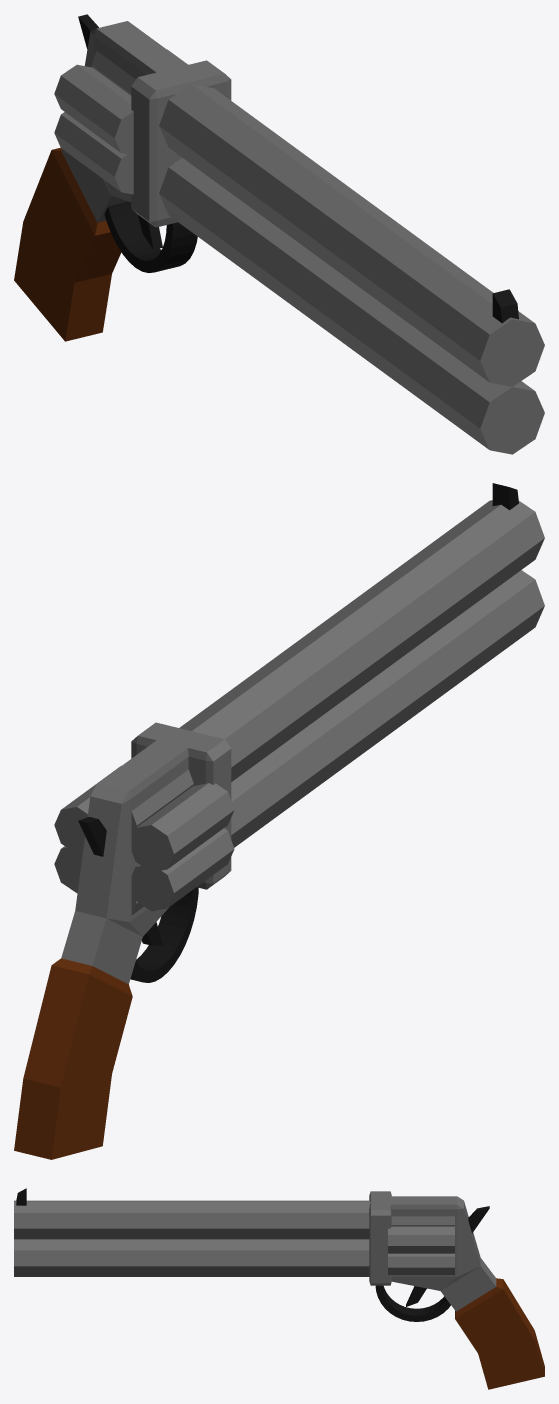
The model's file is Revolver.fbx.
3 renders of one model, top to bottom at view 1: azimuth 30°, elevation 25°; view 2: azimuth 150°, elevation 25°; view 3: azimuth 270°, elevation 25°, orthographic. The views are drawn at different scales.
Visible parts, largest first — view 1: Dy, Dy_1, Cu_2, B, Cu, Cu_1, Za, Curok; view 2: Dy, Dy_1, Cu_2, Cu_1, B, Cu, Za; view 3: Dy, Dy_1, Cu_2, Cu_1, B, Cu, Za, Cur.
Part boxes in pixels (x1,y1,x2,y2): Dy: (159,83,544,386); Dy_1: (159,158,544,454); Cu_2: (14,147,121,341); B: (54,49,187,194); Cu: (131,60,231,227); Cu_1: (61,21,190,222); Za: (104,201,197,272); Curok: (492,289,518,323); Dy: (179,500,544,781); Dy_1: (231,570,544,847); Cu_2: (14,958,132,1159); Cu_1: (61,738,190,984); B: (54,765,234,915); Cu: (131,722,231,889); Za: (130,887,198,982); Dy: (14,1200,370,1239); Dy_1: (14,1239,369,1276); Cu_2: (455,1278,544,1389); Cu_1: (387,1196,496,1311); B: (388,1216,454,1274); Cu: (369,1191,391,1285); Za: (375,1285,450,1321); Cur: (468,1206,489,1233).
Bounding box in the file's own units: 55.58 × 156 × 385.
